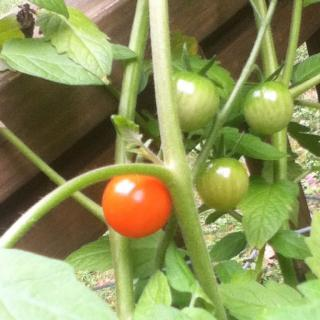tomato: (99, 165, 180, 243), (172, 70, 220, 130), (196, 157, 248, 210), (245, 79, 293, 133)
